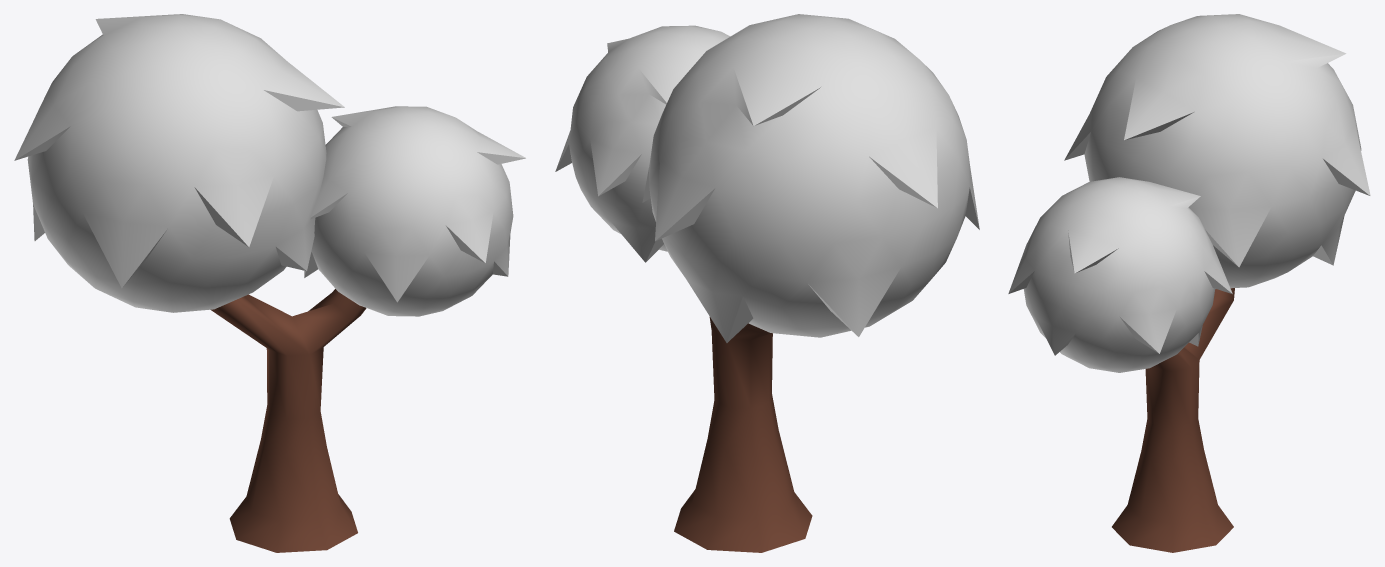
The model's file is tree2.fbx.
3 views of the same model, side by side, from view 1: azimuth 30°, elevation 25°; view 2: azimuth 150°, elevation 25°; view 3: azimuth 270°, elevation 25° (orthographic). The views are drawn at different scales.
Parts seen in each view (by area): view 1: Icosphere, Icosphere.002; view 2: Icosphere, Icosphere.002; view 3: Icosphere, Icosphere.002.
Boxes of the visible parts, box(x1,y1,x2,y2) form: Icosphere: box(14, 14, 525, 316); Icosphere.002: box(210, 289, 366, 552); Icosphere: box(555, 14, 979, 342); Icosphere.002: box(674, 317, 812, 552); Icosphere: box(1008, 14, 1370, 372); Icosphere.002: box(1112, 288, 1234, 552).
Size of the model in its own units: 434 by 505 by 359.
